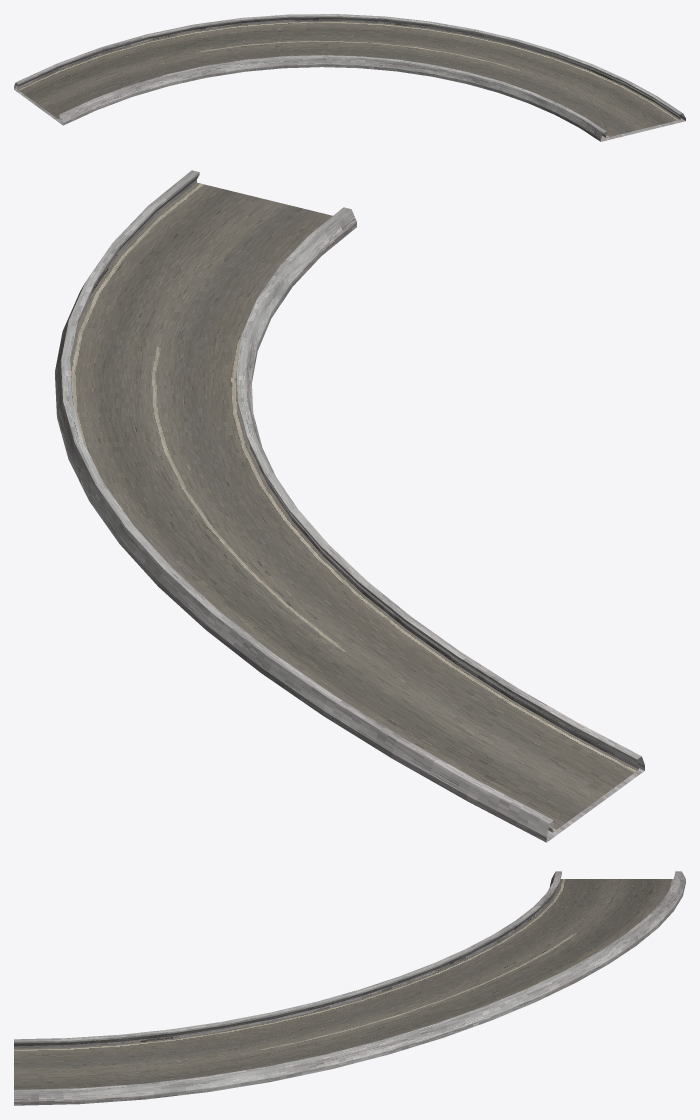
Rendered from road-Turn-Flat-BiSlopeDown-Down2-Left-Size5.glb.
3 views of the same model, one above another, from view 1: azimuth 30°, elevation 25°; view 2: azimuth 150°, elevation 25°; view 3: azimuth 270°, elevation 25° (orthographic). The views are drawn at different scales.
Visible parts, largest first — view 1: road-Turn-Flat-BiSlopeDown-Down2-Left-Size5; view 2: road-Turn-Flat-BiSlopeDown-Down2-Left-Size5; view 3: road-Turn-Flat-BiSlopeDown-Down2-Left-Size5.
Part boxes in pixels (x1,y1,x2,y2): road-Turn-Flat-BiSlopeDown-Down2-Left-Size5: (14, 14, 685, 141); road-Turn-Flat-BiSlopeDown-Down2-Left-Size5: (55, 170, 644, 842); road-Turn-Flat-BiSlopeDown-Down2-Left-Size5: (14, 871, 685, 1105).
Size of the model in its own units: 5 by 0.6164 by 5.
2 materials, 2 textured.
